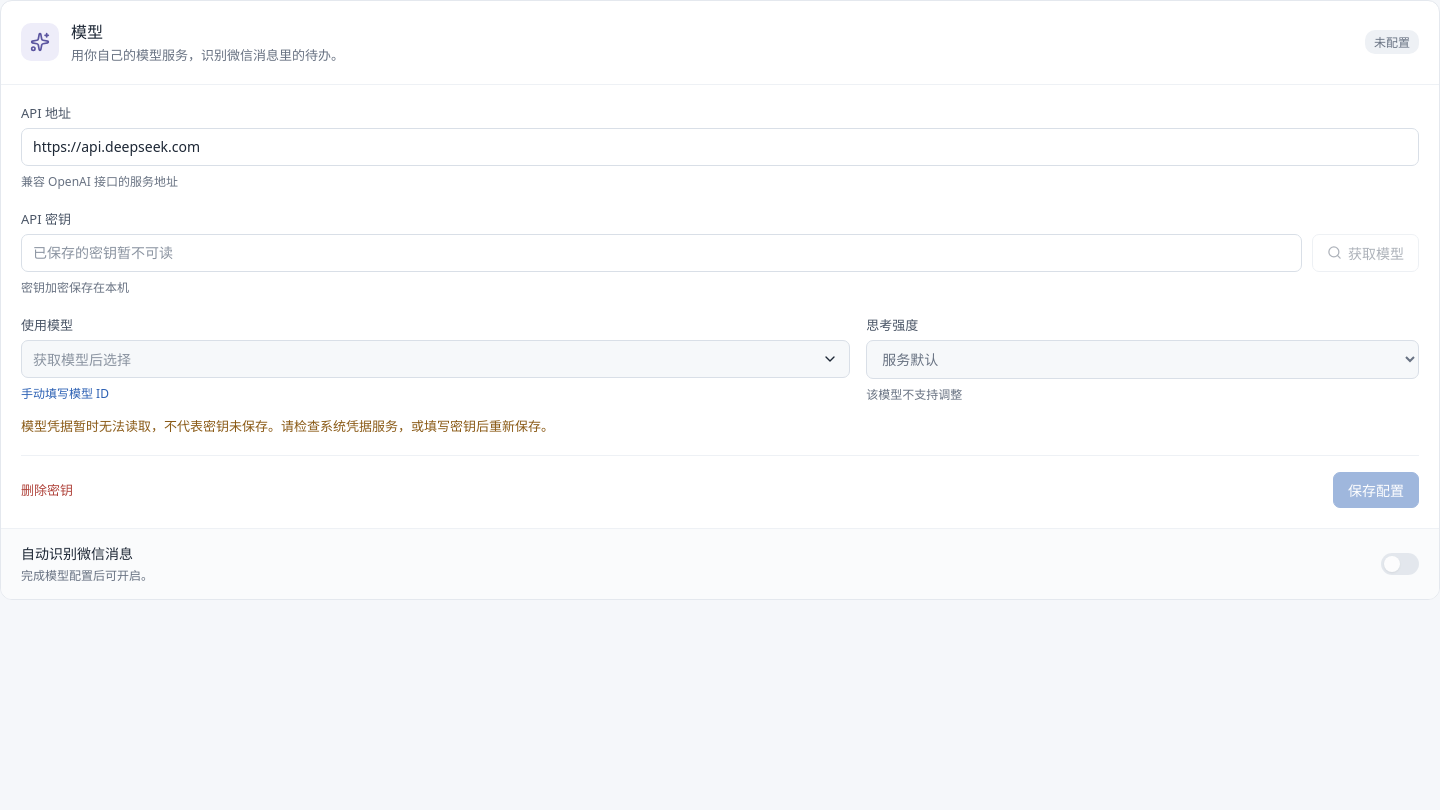
model draft workflow › distinguishes unreadable credentials from missing keys and supports recovery
The image size is (1440, 810).
Expected: the text "模型凭据暂时无法读取，不代表密钥未保存。请检查系统凭据服务，或填写密钥后重新保存。" is shown, [21,417,554,435]
Expected: the button "获取模型" is disabled, [1312,234,1419,272]
Step 1. Type "replacement-key" into the password field labelled "API 密钥 密钥加密保存在本机" → {"x": 662, "y": 253}, box [21,234,1302,272]
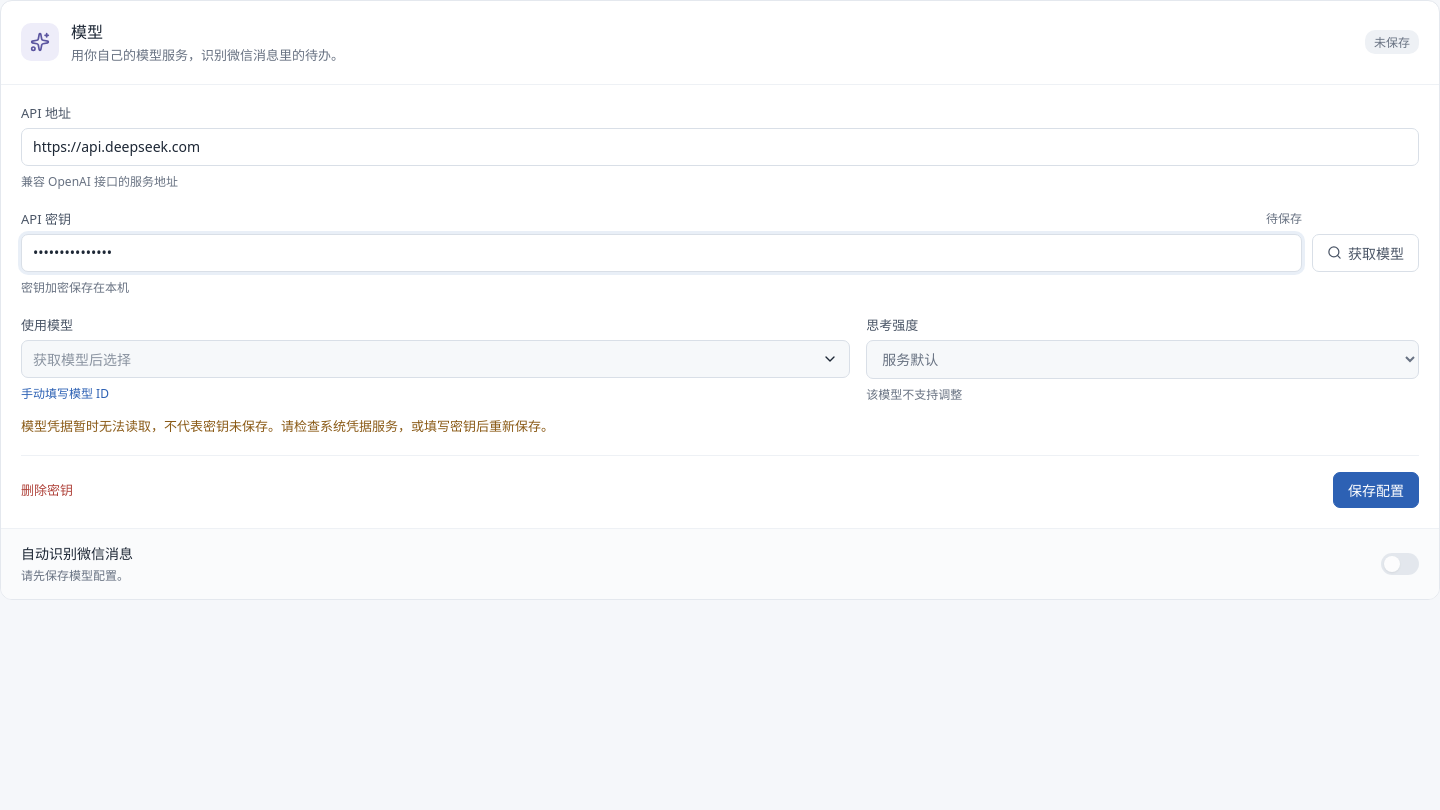
Expected: the button "获取模型" is enabled, [1312,234,1419,272]
